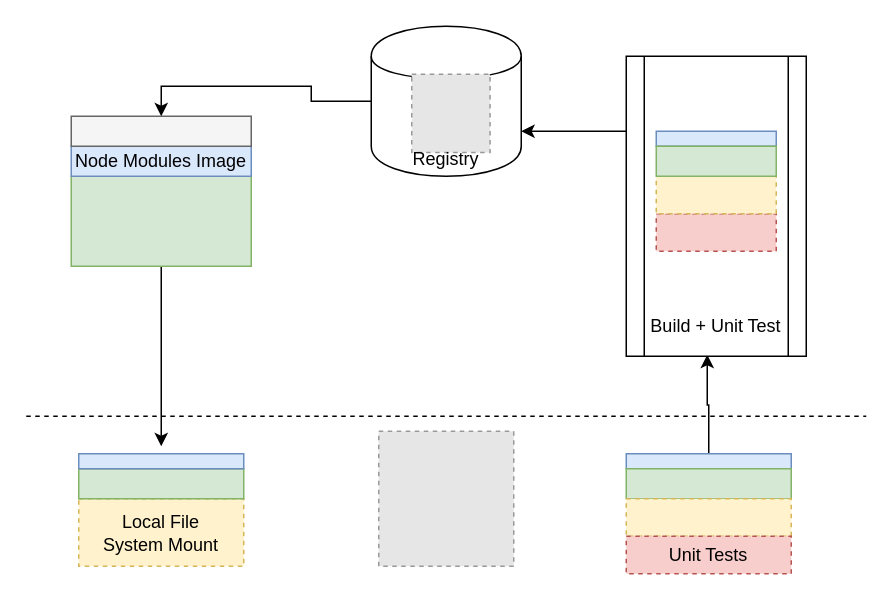
This 894x600 diagram has some shape labels left out. Grey dashed boxes stand in for pictures. The centre of each missing label's shape, as x and y in pixels:
Alpine Node Base: point (160, 130)
Branch Image: point (160, 220)
